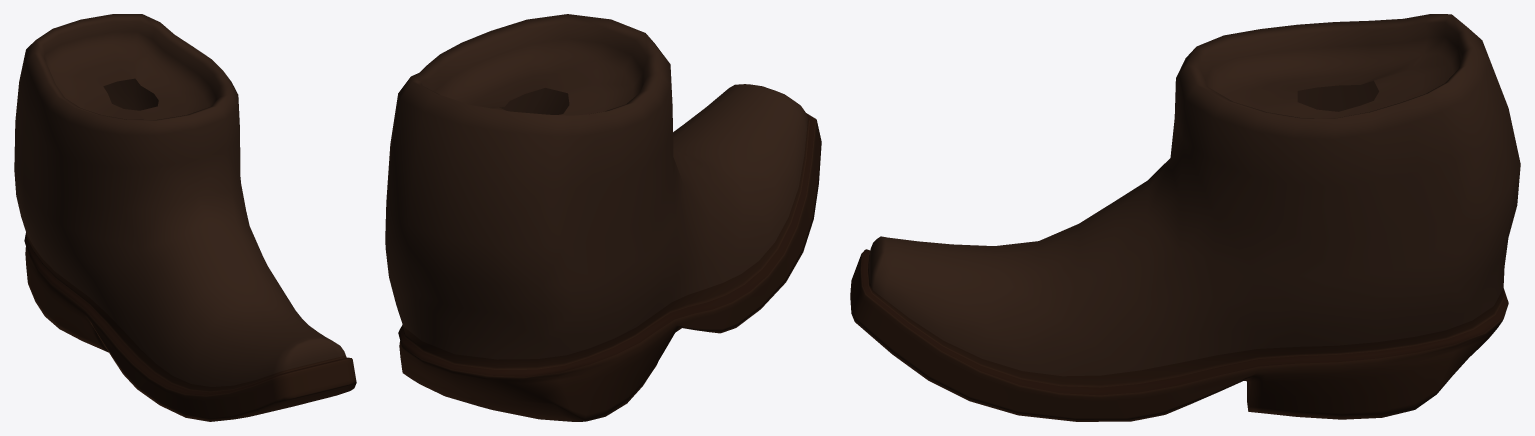
Rendered from bota.fbx.
3 views of the same model, side by side, from view 1: azimuth 30°, elevation 25°; view 2: azimuth 150°, elevation 25°; view 3: azimuth 270°, elevation 25° (orthographic). The views are drawn at different scales.
Parts seen in each view (by area): view 1: bota:bota_izq1; view 2: bota:bota_izq1; view 3: bota:bota_izq1.
Boxes of the visible parts, x1,y1,x2,y2 form: bota:bota_izq1: [14, 14, 356, 421]; bota:bota_izq1: [385, 14, 821, 421]; bota:bota_izq1: [850, 14, 1520, 421].
Size of the model in its own units: 2.22 by 3.17 by 5.82.
Materials: 1 (1 with a texture image).
